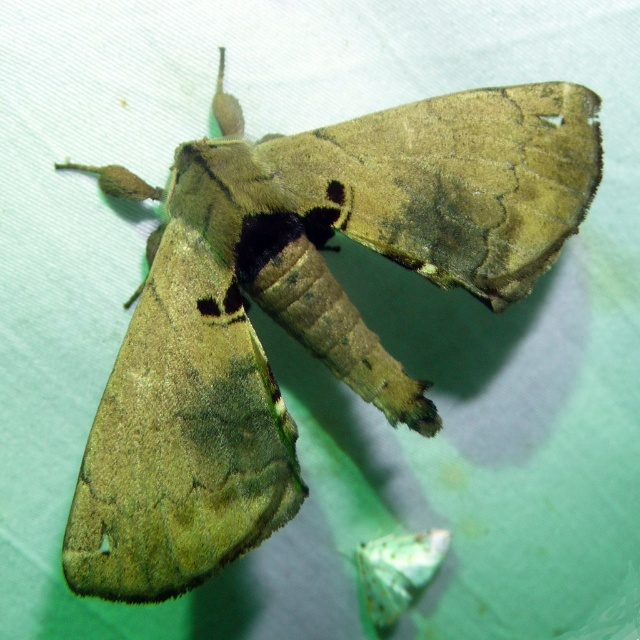Moths and butterflies: (48, 46, 610, 607), (339, 526, 448, 633)
